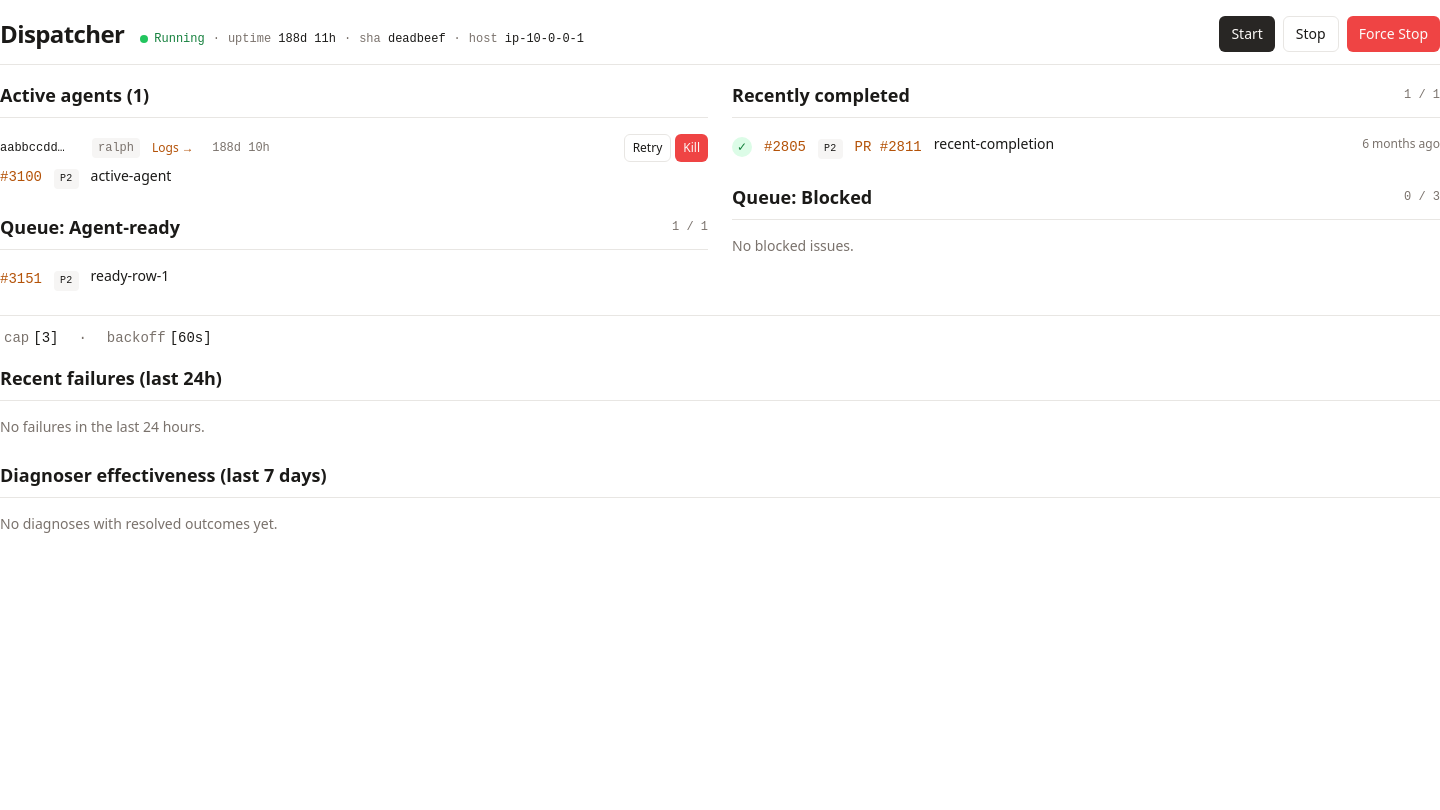
Scenario: DispatcherDashboard — #3206 dialog-open view-transition gate › opening the Blocked dialog ALSO strips Ready rows and Active / Completed transitions
This screenshot has width=1440, height=810.
Step 1. Click the button with test id "queue-blocked-count" → (1422, 197), box [1404, 189, 1439, 205]
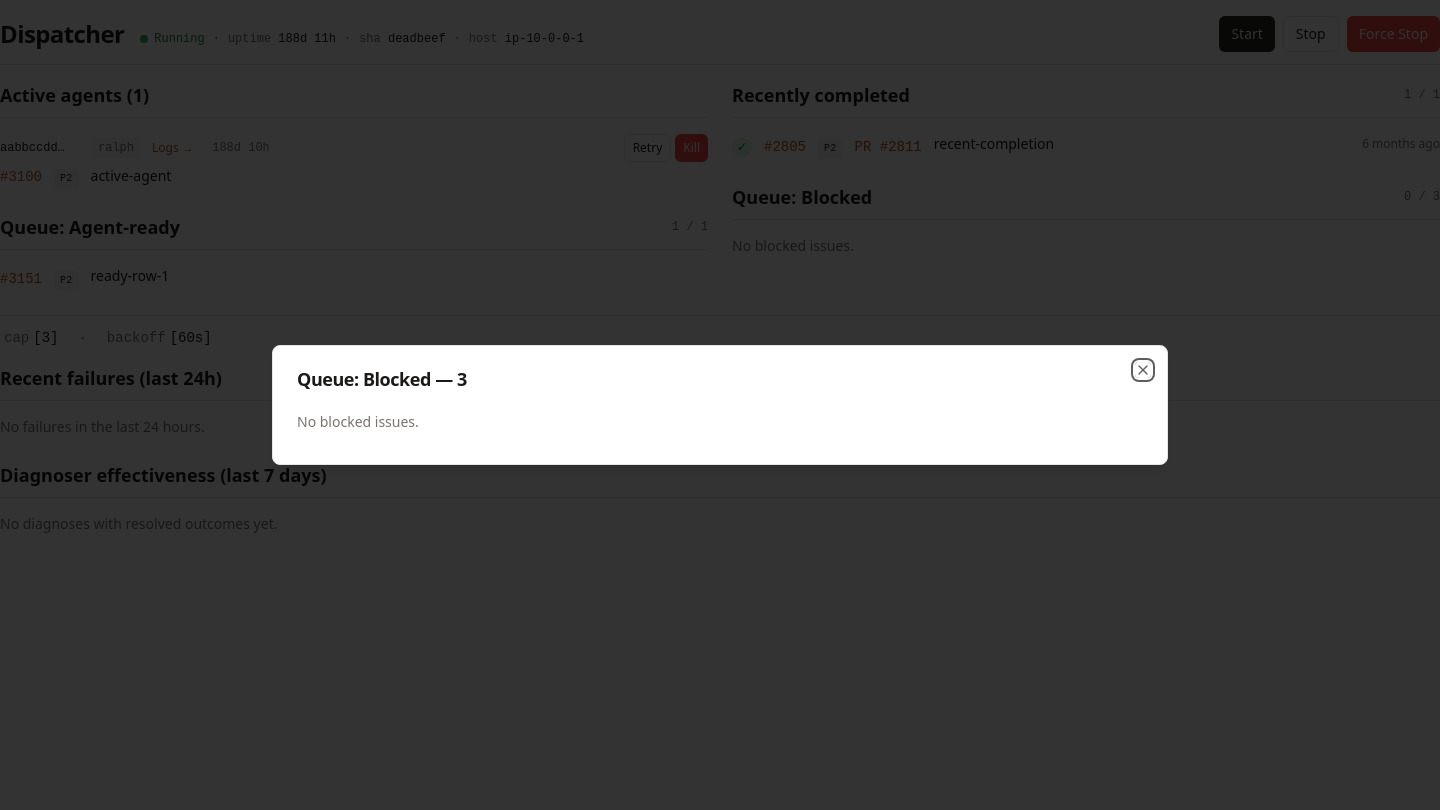
Now the dialog with test id "queue-full-dialog" is shown, box [272, 345, 1168, 465]
